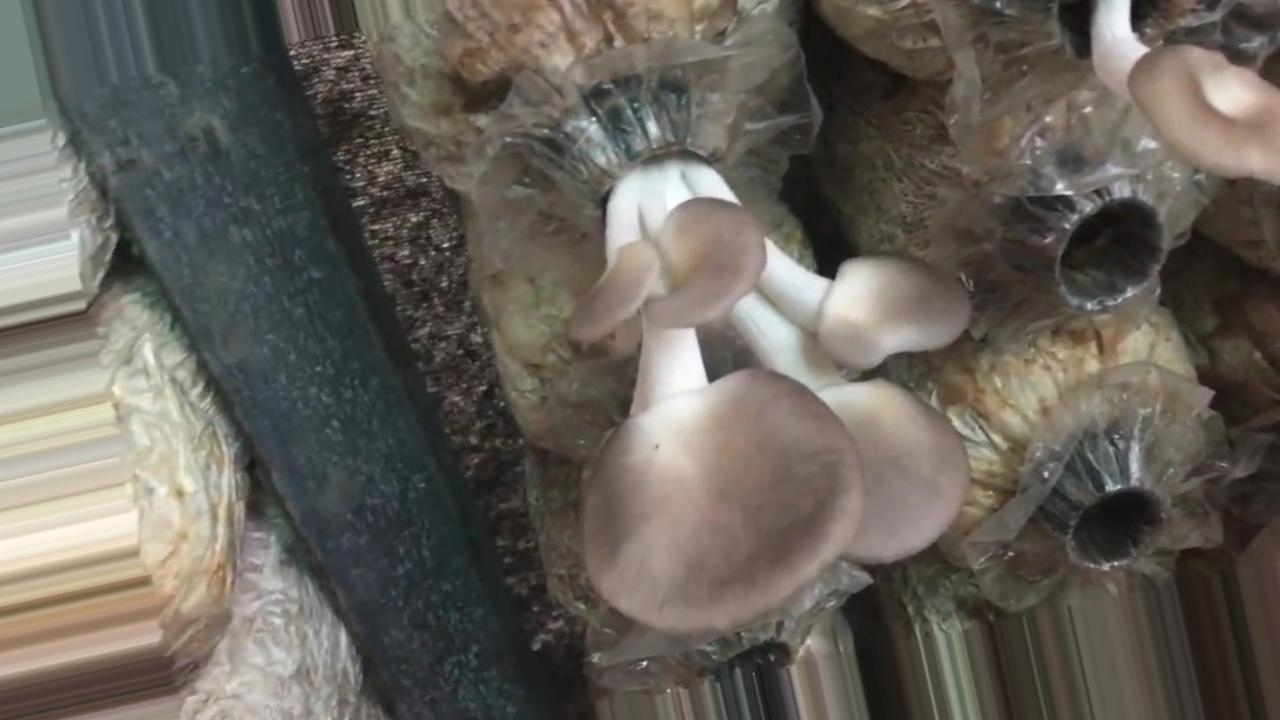nam: (561, 103, 971, 631), (1052, 3, 1280, 185)
